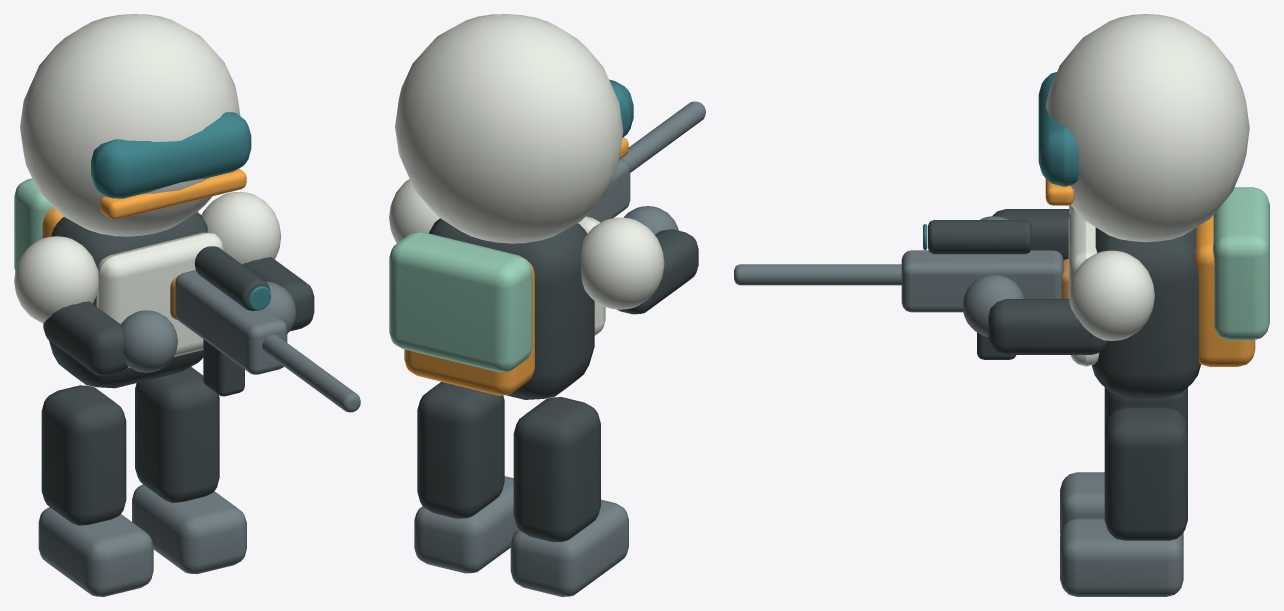
File: sniper.glb
The picture shows the model from 3 angles, left to right: view 1: azimuth 30°, elevation 25°; view 2: azimuth 150°, elevation 25°; view 3: azimuth 270°, elevation 25°; orthographic projection. The views are drawn at different scales.
Parts seen in each view (by area): view 1: SNIPER_ROOT / Soldier helmet, SNIPER_ROOT / Trouser, SNIPER_ROOT / Trouser.001, SNIPER_ROOT / Wraparound visor, SNIPER_ROOT / Boot, SNIPER_ROOT / Boot.001, SNIPER_ROOT / Soldier breastplate, Receiver.004, SNIPER_ROOT / Shoulder, SNIPER_ROOT / Soldier suit, SNIPER_ROOT / Forearm, SNIPER_ROOT / Shoulder.001 (+8 smaller); view 2: SNIPER_ROOT / Soldier helmet, Sniper backpack, SNIPER_ROOT / Trouser, SNIPER_ROOT / Trouser.001, SNIPER_ROOT / Soldier suit, SNIPER_ROOT / Boot, SNIPER_ROOT / Shoulder, SNIPER_ROOT / Boot.001, SNIPER_ROOT / Soldier backpack, SNIPER_ROOT / Forearm, Weapon barrel.004, SNIPER_ROOT / Shoulder.001 (+4 smaller); view 3: SNIPER_ROOT / Soldier helmet, SNIPER_ROOT / Soldier suit, SNIPER_ROOT / Trouser.001, Sniper backpack, SNIPER_ROOT / Boot.001, Receiver.004, SNIPER_ROOT / Shoulder.001, SNIPER_ROOT / Forearm.001, Weapon barrel.004, SNIPER_ROOT / Soldier backpack, Scope, SNIPER_ROOT / Wraparound visor (+5 smaller).
Part boxes in pixels (box(x1,y1,x2,y2)): SNIPER_ROOT / Soldier helmet: box(20, 14, 240, 236); SNIPER_ROOT / Trouser: box(41, 385, 126, 525); SNIPER_ROOT / Trouser.001: box(135, 367, 219, 502); SNIPER_ROOT / Wraparound visor: box(91, 112, 251, 198); SNIPER_ROOT / Boot: box(38, 507, 153, 596); SNIPER_ROOT / Boot.001: box(132, 484, 246, 573); SNIPER_ROOT / Soldier breastplate: box(96, 232, 224, 368); Receiver.004: box(175, 270, 287, 374); SNIPER_ROOT / Shoulder: box(14, 236, 98, 323); SNIPER_ROOT / Soldier suit: box(49, 212, 207, 388); SNIPER_ROOT / Forearm: box(43, 301, 128, 375); SNIPER_ROOT / Shoulder.001: box(202, 192, 281, 264); SNIPER_ROOT / Soldier helmet: box(395, 14, 623, 243); Sniper backpack: box(389, 232, 532, 372); SNIPER_ROOT / Trouser: box(513, 397, 600, 542); SNIPER_ROOT / Trouser.001: box(417, 382, 504, 518); SNIPER_ROOT / Soldier suit: box(429, 218, 594, 399); SNIPER_ROOT / Boot: box(510, 499, 628, 596); SNIPER_ROOT / Shoulder: box(580, 217, 664, 309); SNIPER_ROOT / Boot.001: box(414, 476, 518, 573); SNIPER_ROOT / Soldier backpack: box(404, 262, 534, 395); SNIPER_ROOT / Forearm: box(617, 229, 698, 314); Weapon barrel.004: box(621, 101, 705, 172); SNIPER_ROOT / Shoulder.001: box(389, 179, 439, 243); SNIPER_ROOT / Soldier helmet: box(1045, 14, 1249, 242); SNIPER_ROOT / Soldier suit: box(1091, 227, 1200, 398); SNIPER_ROOT / Trouser.001: box(1104, 407, 1187, 540); Sniper backpack: box(1213, 187, 1269, 340); SNIPER_ROOT / Boot.001: box(1060, 518, 1183, 596); Receiver.004: box(901, 250, 1063, 312); SNIPER_ROOT / Shoulder.001: box(1068, 250, 1154, 340); SNIPER_ROOT / Forearm.001: box(988, 299, 1107, 354); Weapon barrel.004: box(734, 264, 901, 285); SNIPER_ROOT / Soldier backpack: box(1195, 215, 1255, 366); Scope: box(928, 220, 1031, 254); SNIPER_ROOT / Wraparound visor: box(1038, 72, 1078, 186).
Size of the model in its own units: 0.8112 by 1.61 by 1.45.
